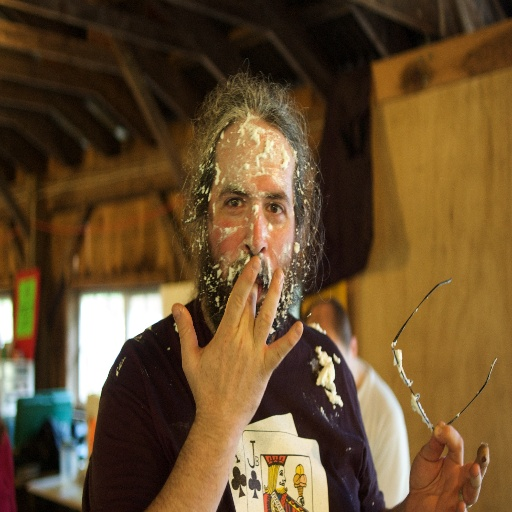hand: (166, 251, 308, 463), (405, 416, 490, 511)
